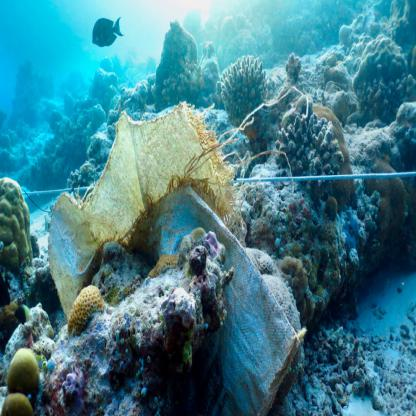waste: (157, 187, 302, 412), (48, 110, 231, 221)
